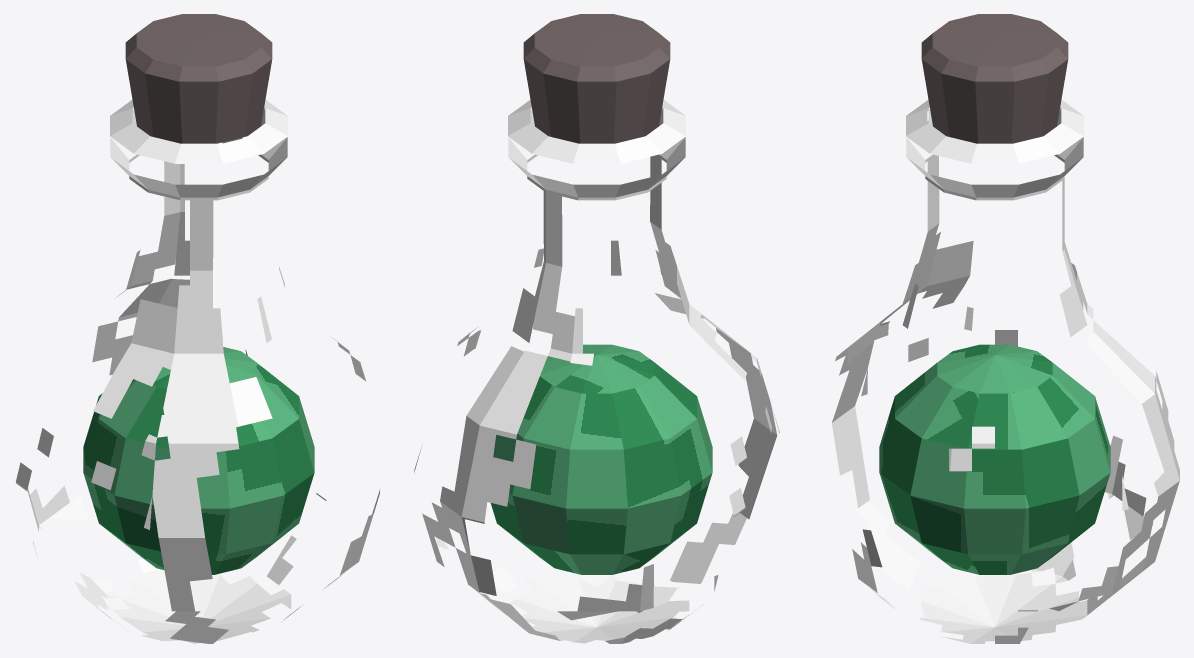
The model's file is spell_green.gltf.
3 renders of one model, left to right at view 1: azimuth 30°, elevation 25°; view 2: azimuth 150°, elevation 25°; view 3: azimuth 270°, elevation 25°, orthographic.
Parts seen in each view (by area): view 1: potion, sphere; view 2: potion, sphere; view 3: potion, sphere.
Part boxes in pixels (x1,y1,x2,y2): potion: [16, 14, 380, 643]; sphere: [83, 347, 314, 574]; potion: [414, 14, 779, 643]; sphere: [490, 344, 712, 574]; potion: [832, 14, 1179, 643]; sphere: [879, 344, 1110, 574].
Bounding box in the file's own units: 1 × 1.76 × 1.
Materials: 2 (2 with a texture image).
